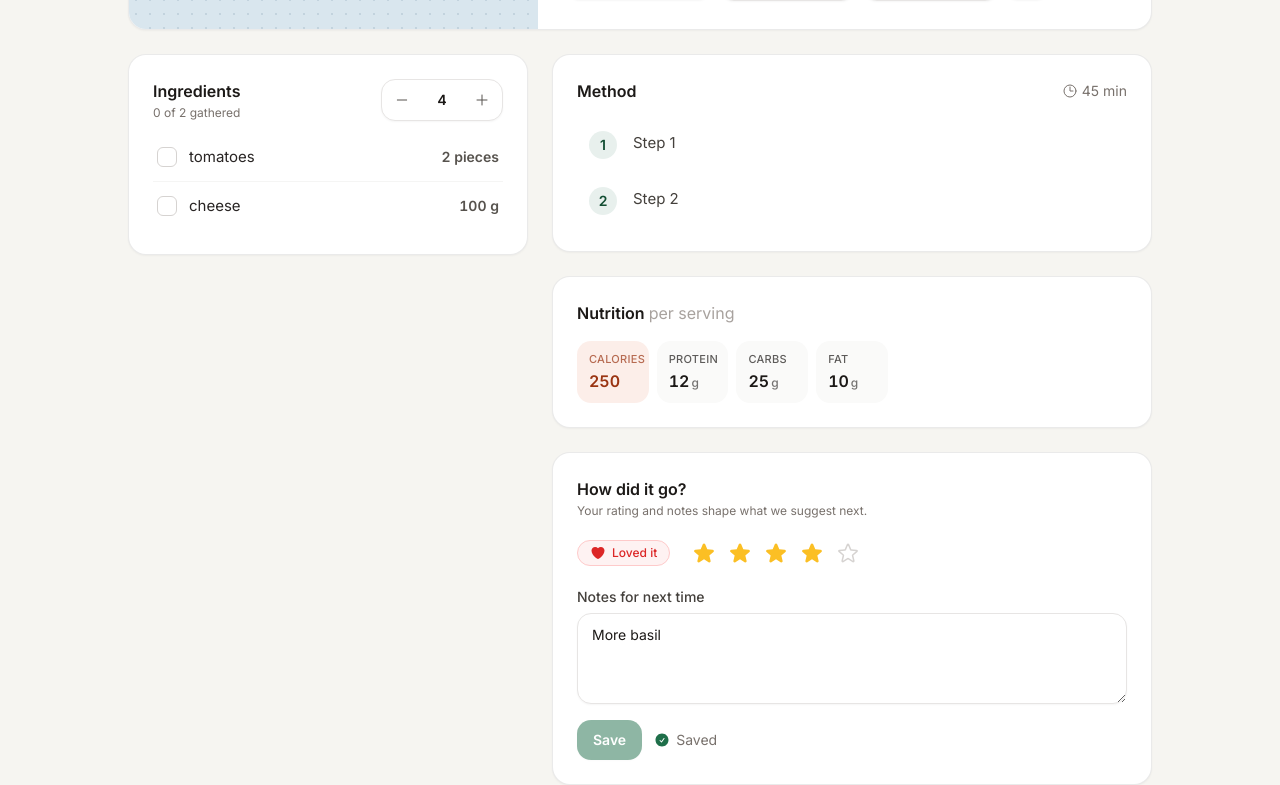
Test case: RecipeDetailPage › saves updated feedback
(page scrolled)
Click the radio button named "5 stars". click: [848, 553]
box: [830, 535, 866, 571]
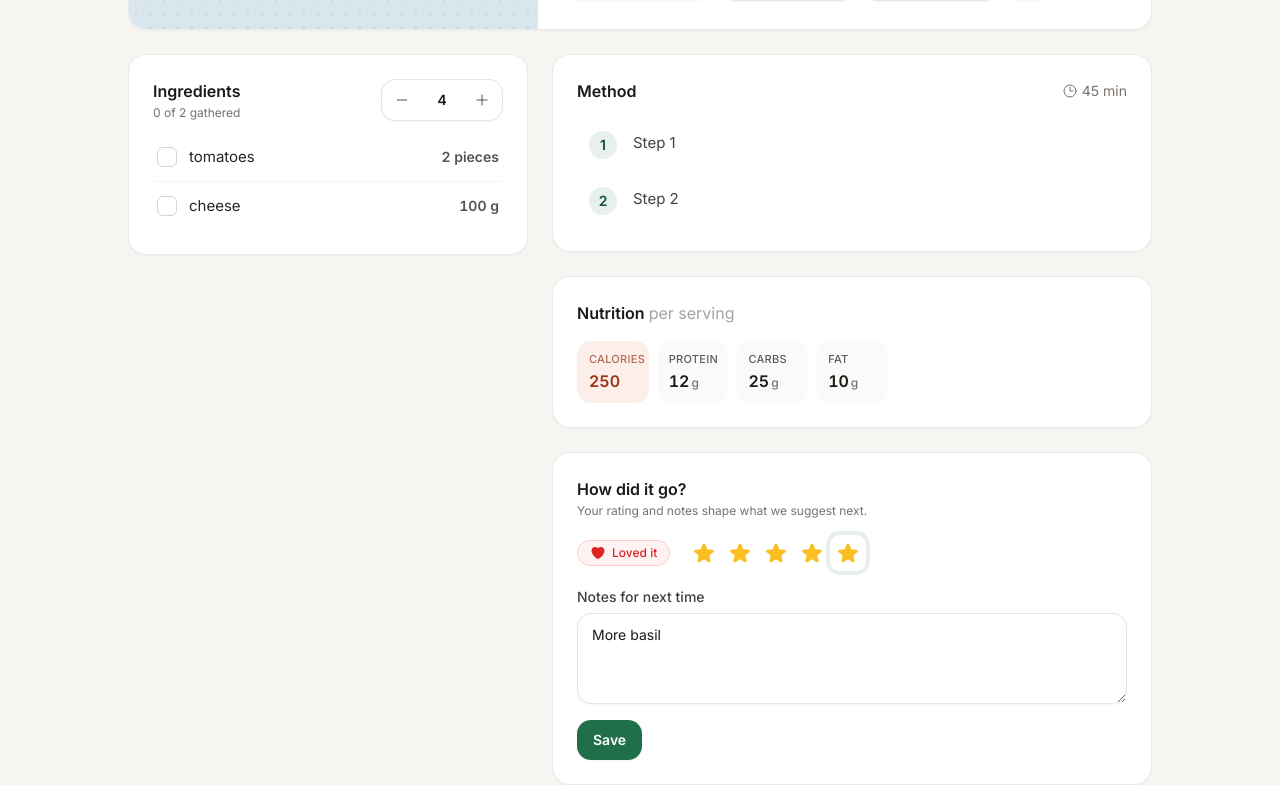
Click the button "Save". click: [610, 740]
box: [577, 720, 642, 760]
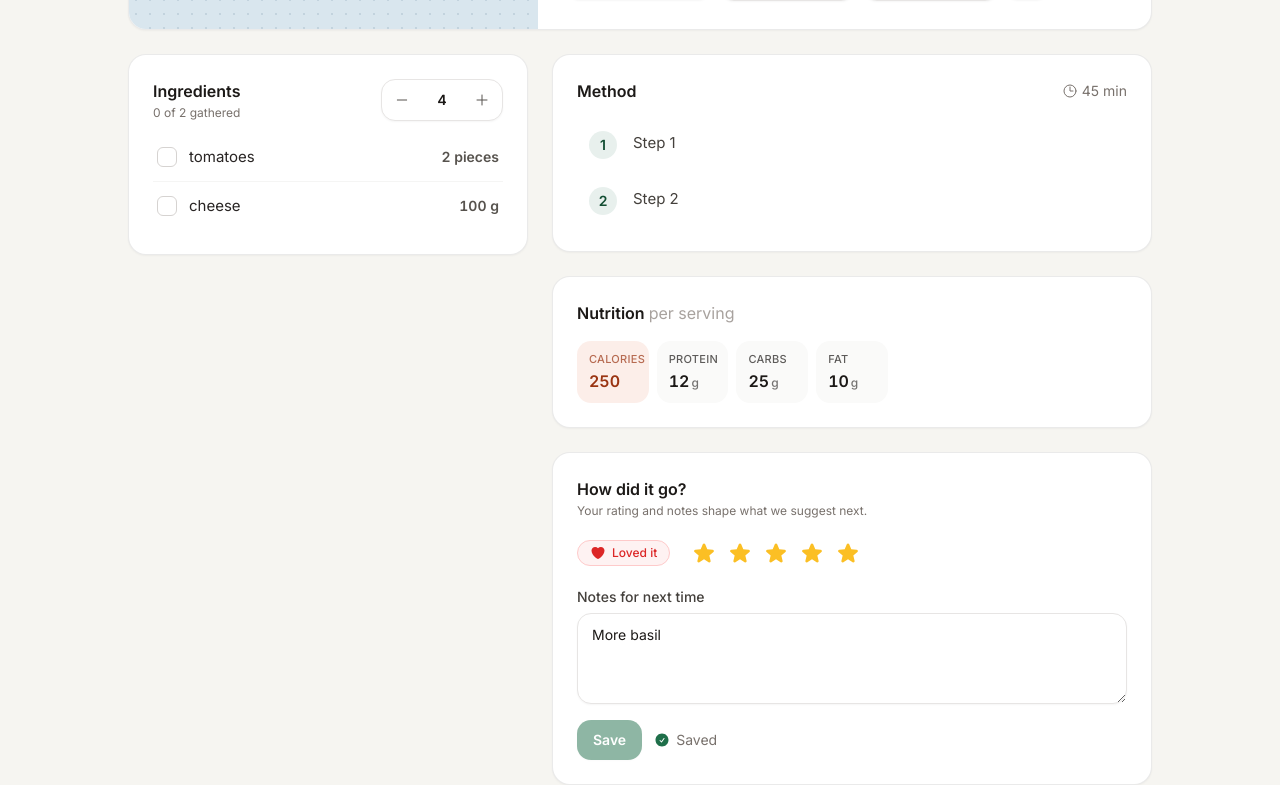
Expected: the text "Saved" is shown, [654, 730, 717, 750]
